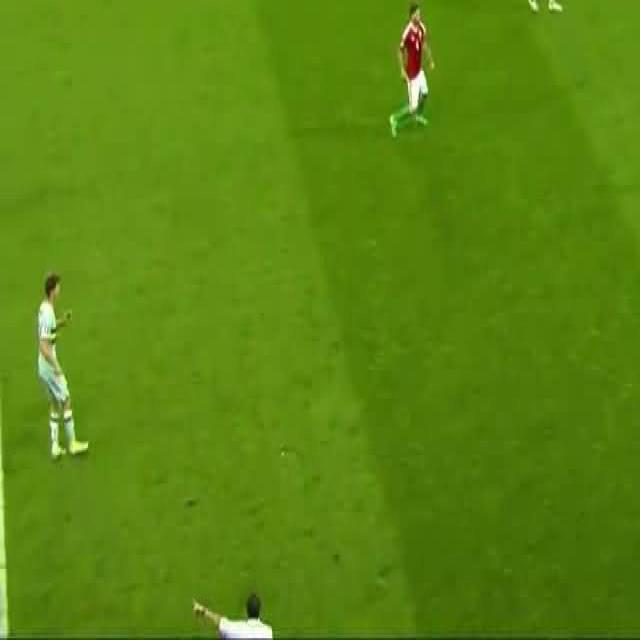player-white: (37, 270, 89, 460), (390, 5, 434, 137), (528, 0, 564, 12)
